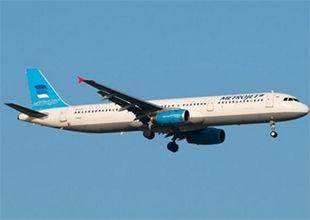airplane: (1, 65, 309, 152)
